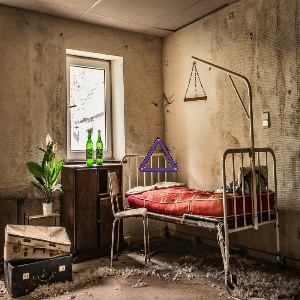triangle: (138, 136, 181, 173)
